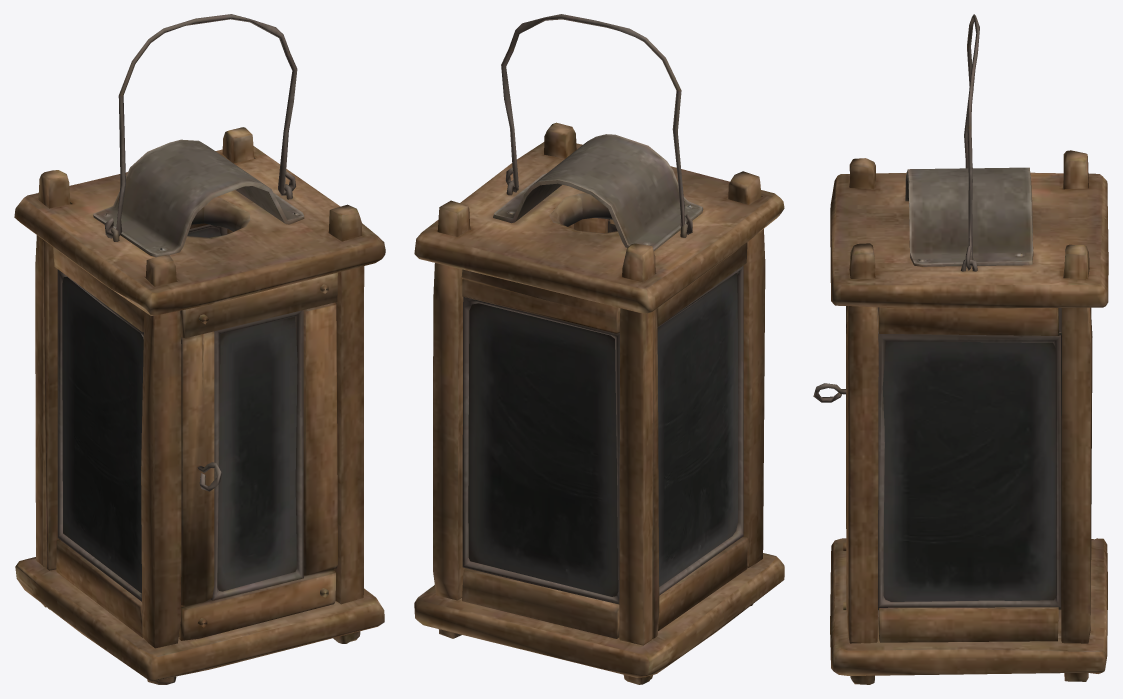
Rendered from wooden_lantern.glb.
3 views of the same model, side by side, from view 1: azimuth 30°, elevation 25°; view 2: azimuth 150°, elevation 25°; view 3: azimuth 270°, elevation 25° (orthographic).
Parts seen in each view (by area): view 1: wooden_lantern_01; view 2: wooden_lantern_01; view 3: wooden_lantern_01.
Boxes of the visible parts, x1,y1,x2,y2 form: wooden_lantern_01: [14, 14, 385, 684]; wooden_lantern_01: [414, 14, 784, 684]; wooden_lantern_01: [813, 14, 1108, 684].
Bounding box in the file's own units: 0.221 × 0.5296 × 0.2341.
2 materials, 2 textured.
